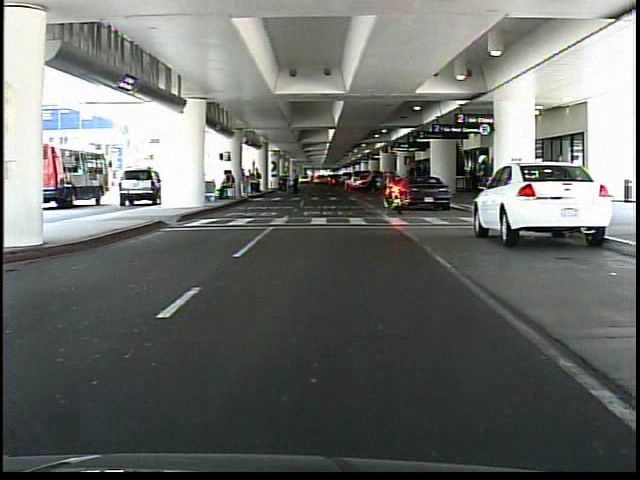person: (468, 150, 495, 225)
